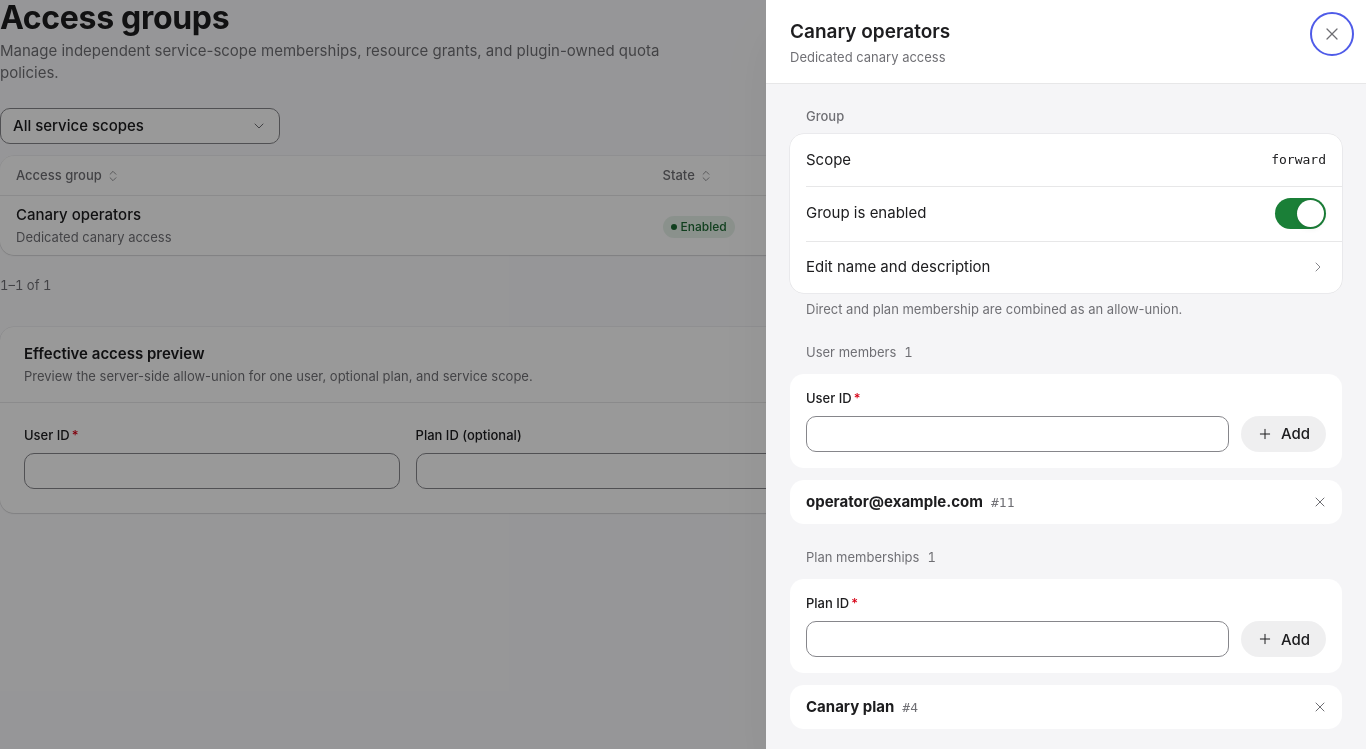
Test case: AccessGroups.vue › shows the kernel error without replacing a previously loaded policy view
Step 1. Type "999" into the number field with id "access-member-id" → (1017, 434), box x1=807 y1=417 x2=1228 y2=451
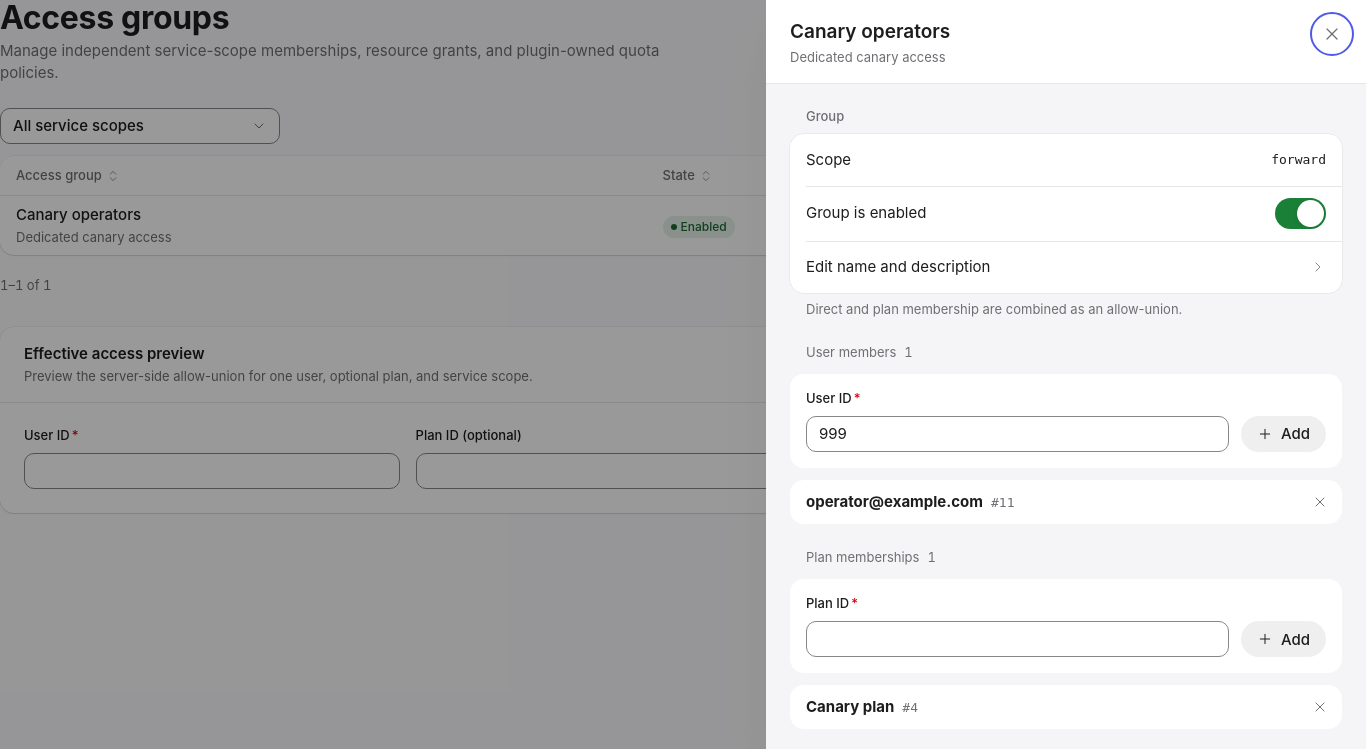
Step 2. Submit the form with id "access-member-id", box x1=790 y1=374 x2=1342 y2=468
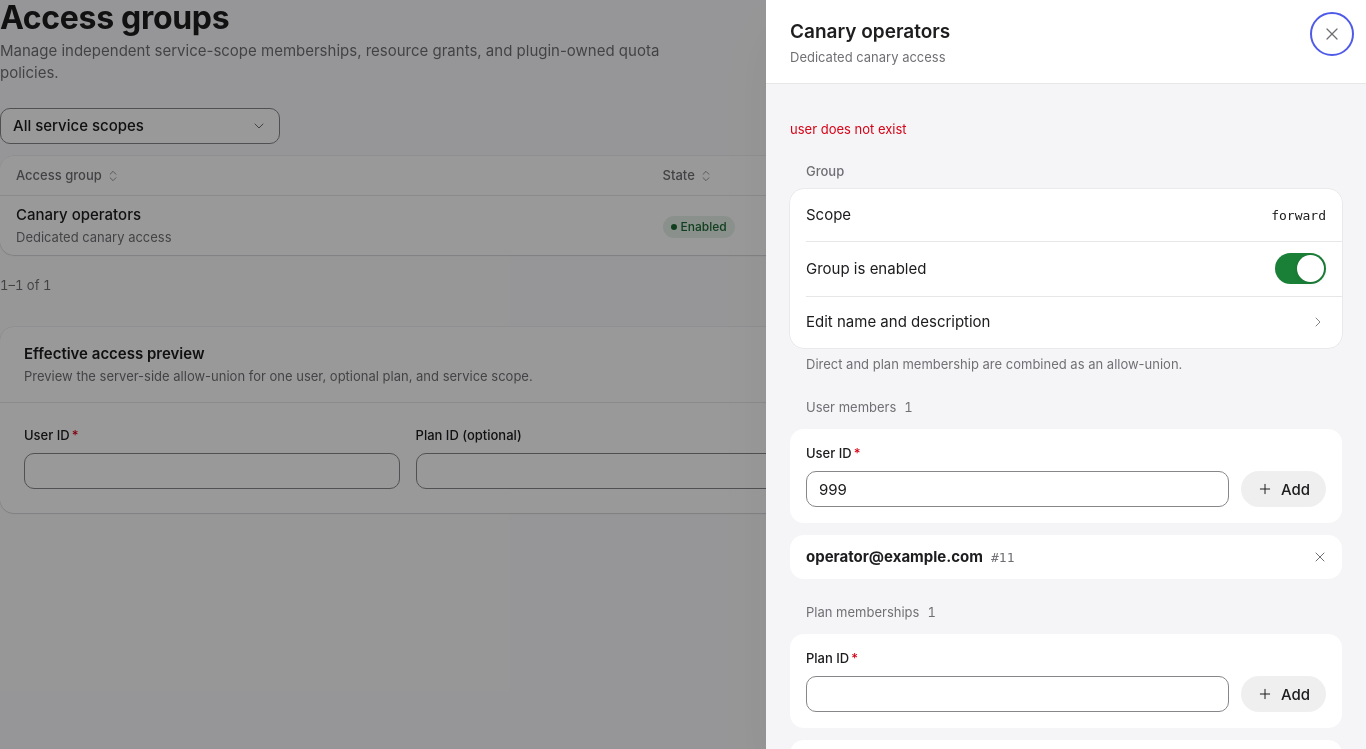
Expected: the dialog with test id "access-detail-sheet" shows "operator@example.com", x1=806 y1=547 x2=983 y2=566
Now the message with class "error-message" reads "user does not exist", box x1=790 y1=121 x2=907 y2=137
